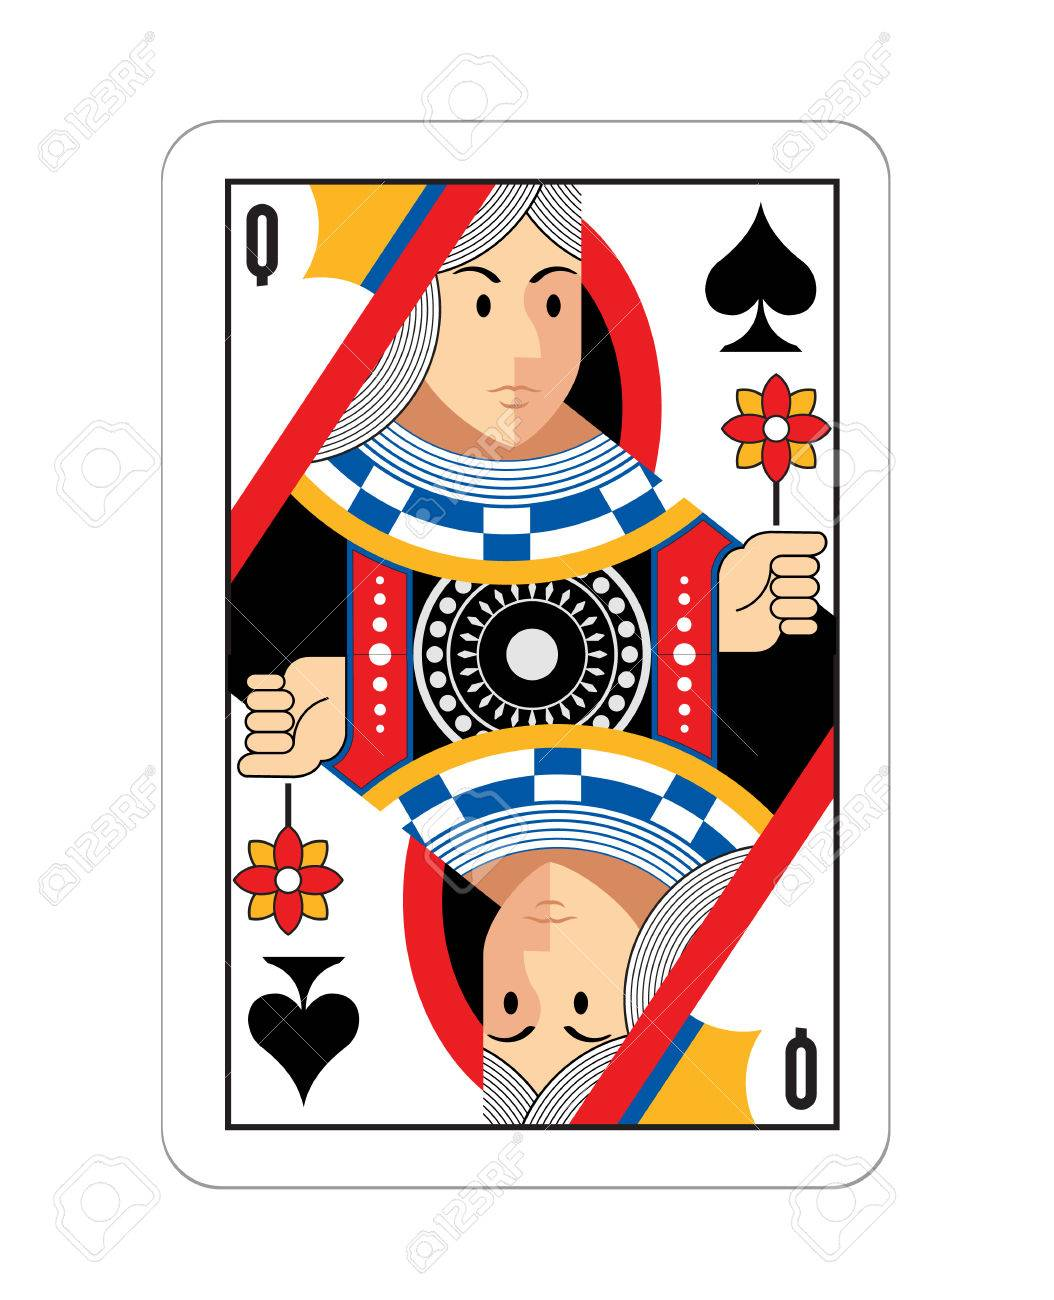queen of spades: (158, 117, 888, 1184)
